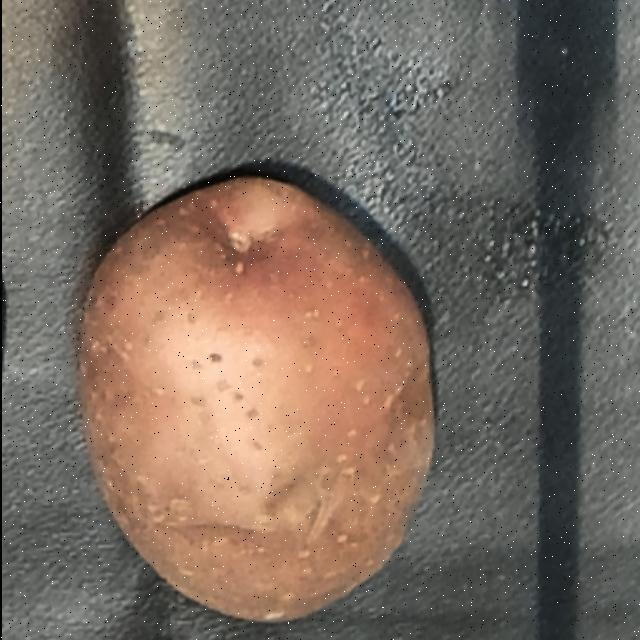Diseased-fungal potato: (59, 150, 443, 634)
